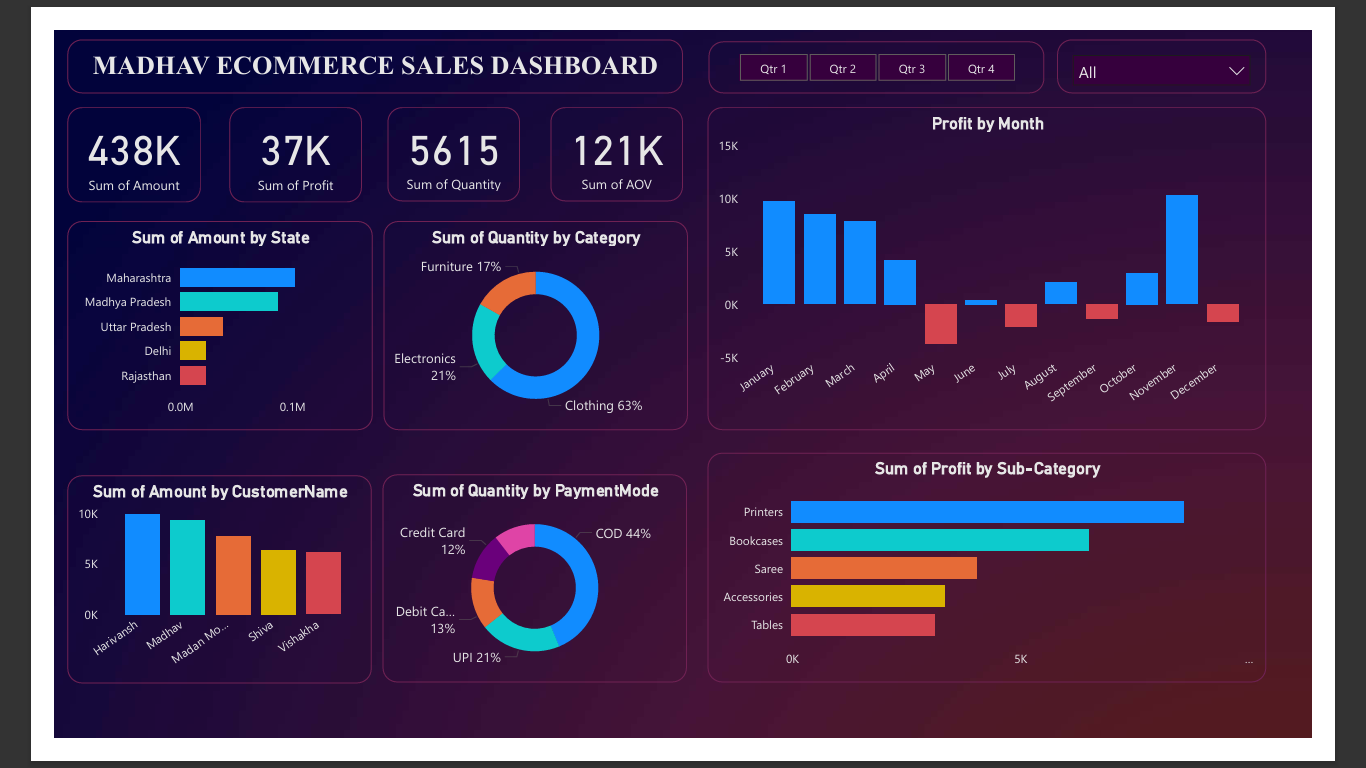

The page's visual inventory and layout, read from the dashboard file:
{"tool":"powerbi","page":{"name":"Page 1","canvas":[1280,720],"ordinal":0},"visuals":[{"type":"textbox","box":[13.4,9.4,626.3,54.9],"z":0},{"type":"columnChart","title":"Profit by Month","fields":{"Y":["Details.Profit"],"Category":["Orders.Order Date.Variation.Date Hierarchy.Month"]},"box":[665.1,77.6,568.8,329.2],"z":1000},{"type":"clusteredBarChart","fields":{"Category":["Details.Sub-Category"],"Y":["Details.Profit"]},"box":[665.1,429.6,568.8,234.2],"z":2000},{"type":"donutChart","fields":{"Category":["Details.PaymentMode"],"Y":["Details.Quantity"]},"box":[334,452.3,310,212],"z":3000},{"type":"donutChart","fields":{"Category":["Details.Category"],"Y":["Details.Quantity"]},"box":[334.6,194.1,310,212.8],"z":4000},{"type":"card","fields":{"Values":["Details.Amount"]},"box":[13.4,77.6,135.2,97.7],"z":5000},{"type":"card","fields":{"Values":["Details.Quantity"]},"box":[338.6,77.6,135.2,96.4],"z":6000},{"type":"card","fields":{"Values":["Details.Profit"]},"box":[178,77.6,135.2,97.7],"z":7000},{"type":"card","fields":{"Values":["Details.AOV"]},"box":[504.5,77.6,135.2,96.4],"z":8000},{"type":"clusteredBarChart","fields":{"Category":["Orders.State"],"Y":["Details.Amount"]},"box":[13.4,194.1,310.5,212.8],"z":9000},{"type":"columnChart","fields":{"Category":["Orders.CustomerName"],"Y":["Details.Amount"]},"box":[13.4,453,310,212],"z":10000},{"type":"slicer","fields":{"Values":["Orders.Order Date.Variation.Date Hierarchy.Quarter"]},"box":[666.5,10.7,341.3,53.5],"z":11000},{"type":"slicer","fields":{"Values":["Orders.State"]},"box":[1021.1,9.4,212.8,54.9],"z":12000}]}

Visuals, with their boxes in screenshot pixels (x1, y1, x2, y2), scaled from the page's 1280x720 canvas onto the 1366x768 screenshot:
textbox: box=[14, 10, 683, 69]
"Profit by Month" columnChart: box=[710, 83, 1317, 434]
clusteredBarChart - Details.Sub-Category x Details.Profit: box=[710, 458, 1317, 708]
donutChart - Details.PaymentMode x Details.Quantity: box=[356, 482, 687, 709]
donutChart - Details.Category x Details.Quantity: box=[357, 207, 688, 434]
card - Details.Amount: box=[14, 83, 159, 187]
card - Details.Quantity: box=[361, 83, 506, 186]
card - Details.Profit: box=[190, 83, 334, 187]
card - Details.AOV: box=[538, 83, 683, 186]
clusteredBarChart - Orders.State x Details.Amount: box=[14, 207, 346, 434]
columnChart - Orders.CustomerName x Details.Amount: box=[14, 483, 345, 709]
slicer - Orders.Order Date.Variation.Date Hierarchy.Quarter: box=[711, 11, 1076, 68]
slicer - Orders.State: box=[1090, 10, 1317, 69]
